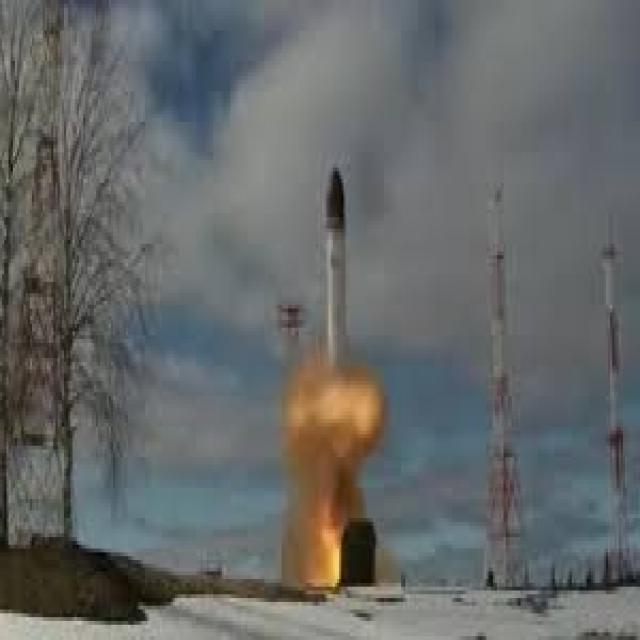missile: (307, 169, 360, 417)
